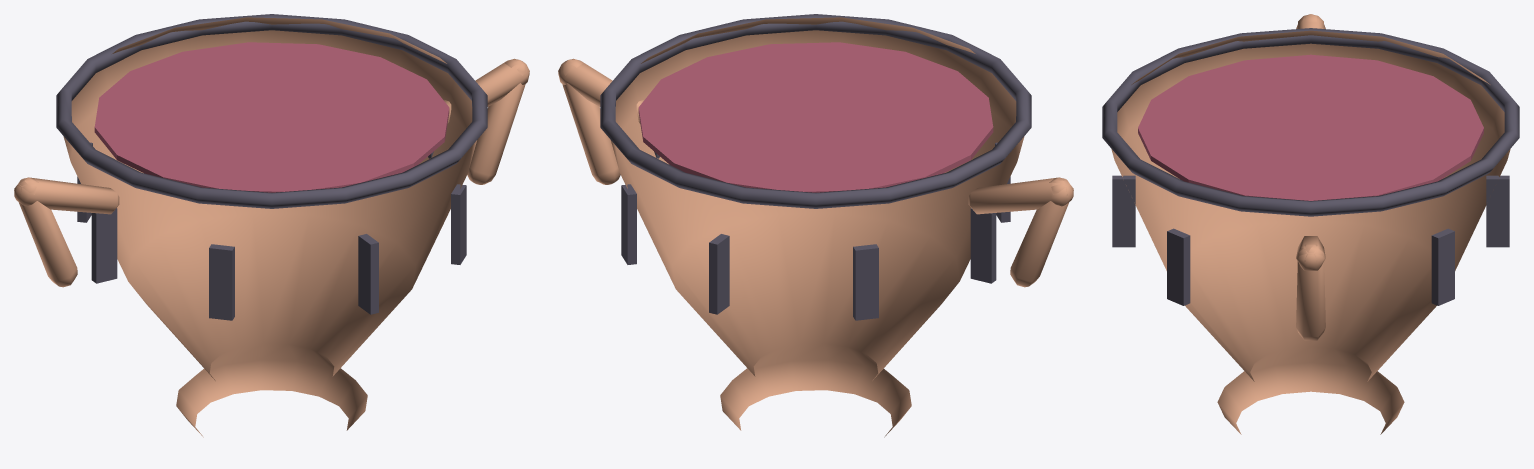
The model's file is mythic-underworld-and-olympus-krater-mixing-bowl-41ad0b77__21425.glb.
3 views of the same model, side by side, from view 1: azimuth 30°, elevation 25°; view 2: azimuth 150°, elevation 25°; view 3: azimuth 270°, elevation 25° (orthographic). The views are drawn at different scales.
Visible parts, largest first — view 1: krater-mixing-bowl; view 2: krater-mixing-bowl; view 3: krater-mixing-bowl.
Part boxes in pixels (box(x1,y1,x2,y2)): krater-mixing-bowl: box(14, 14, 529, 437); krater-mixing-bowl: box(558, 14, 1073, 437); krater-mixing-bowl: box(1102, 14, 1519, 434).
Size of the model in its own units: 1.22 by 0.74 by 0.8923.
